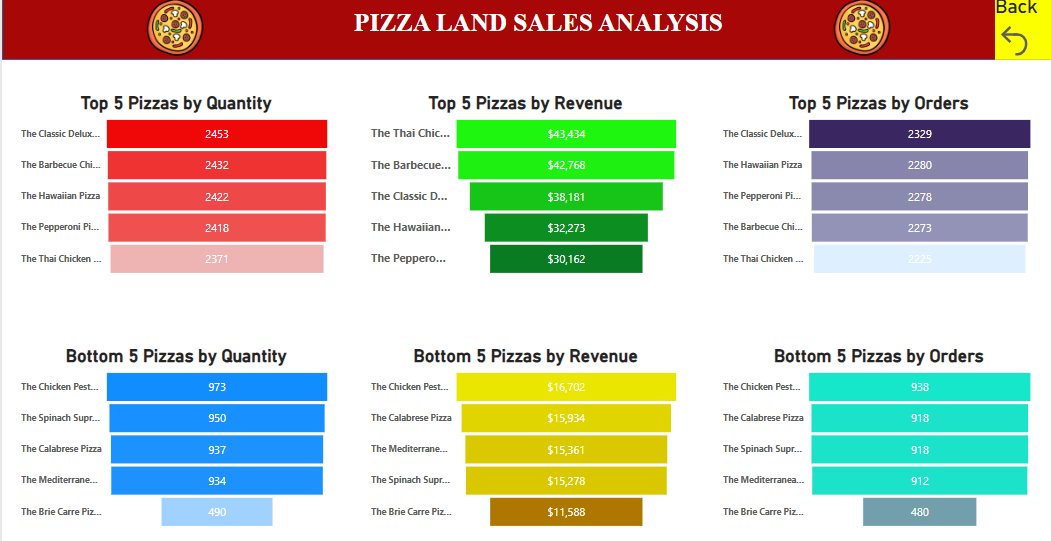

Layout of this report page (visuals, bound fields, positions):
{"tool":"powerbi","page":{"name":"Pizzas Analysis","canvas":[1280,720],"ordinal":2},"visuals":[{"type":"shape","box":[0,0,1279.8,79.4],"z":0},{"type":"actionButton","title":"Back","box":[1210.4,0,69.4,79.4],"z":1000},{"type":"textbox","title":"PIZZA LAND SALES ANALYSIS","box":[425,16.8,535.9,62.2],"z":2000},{"type":"funnel","title":"Top 5 Pizzas by Orders","fields":{"Category":["pizza_types.name"],"Y":["Orders.total orders2"]},"box":[874.5,119.1,389.8,228.2],"z":3000},{"type":"funnel","title":"Top 5 Pizzas by Revenue","fields":{"Category":["pizza_types.name"],"Y":["Orders.Total Revenue"]},"box":[445,119.1,386.9,228.2],"z":4000},{"type":"funnel","title":"Bottom 5 Pizzas by Revenue","fields":{"Category":["pizza_types.name"],"Y":["Orders.Total Revenue"]},"box":[445,428,386.9,228.2],"z":5000},{"type":"funnel","title":"Bottom 5 Pizzas by Orders","fields":{"Category":["pizza_types.name"],"Y":["Orders.total orders2"]},"box":[874.5,428,389.8,228.2],"z":6000},{"type":"funnel","title":"Bottom 5 Pizzas by Quantity","fields":{"Category":["pizza_types.name"],"Y":["Sum(order_details.quantity)"]},"box":[18.4,428,388.3,228.2],"z":7000},{"type":"funnel","title":"Top 5 Pizzas by Quantity","fields":{"Category":["pizza_types.name"],"Y":["Sum(order_details.quantity)"]},"box":[18.4,119.1,388.3,228.2],"z":8000},{"type":"image","box":[170.1,0,82.2,79.4],"z":9000},{"type":"image","box":[1007.7,0,82.2,79.4],"z":10000}]}

Visuals, with their boxes on the page's 1280x720 design canvas (x1, y1, x2, y2). These are canvas units, not pixel positions in the 1051x541 screenshot, which may show the page scaled, cropped or inside an application window:
shape: x1=0, y1=0, x2=1280, y2=79
"Back" actionButton: x1=1210, y1=0, x2=1280, y2=79
"PIZZA LAND SALES ANALYSIS" textbox: x1=425, y1=17, x2=961, y2=79
"Top 5 Pizzas by Orders" funnel: x1=874, y1=119, x2=1264, y2=347
"Top 5 Pizzas by Revenue" funnel: x1=445, y1=119, x2=832, y2=347
"Bottom 5 Pizzas by Revenue" funnel: x1=445, y1=428, x2=832, y2=656
"Bottom 5 Pizzas by Orders" funnel: x1=874, y1=428, x2=1264, y2=656
"Bottom 5 Pizzas by Quantity" funnel: x1=18, y1=428, x2=407, y2=656
"Top 5 Pizzas by Quantity" funnel: x1=18, y1=119, x2=407, y2=347
image: x1=170, y1=0, x2=252, y2=79
image: x1=1008, y1=0, x2=1090, y2=79
